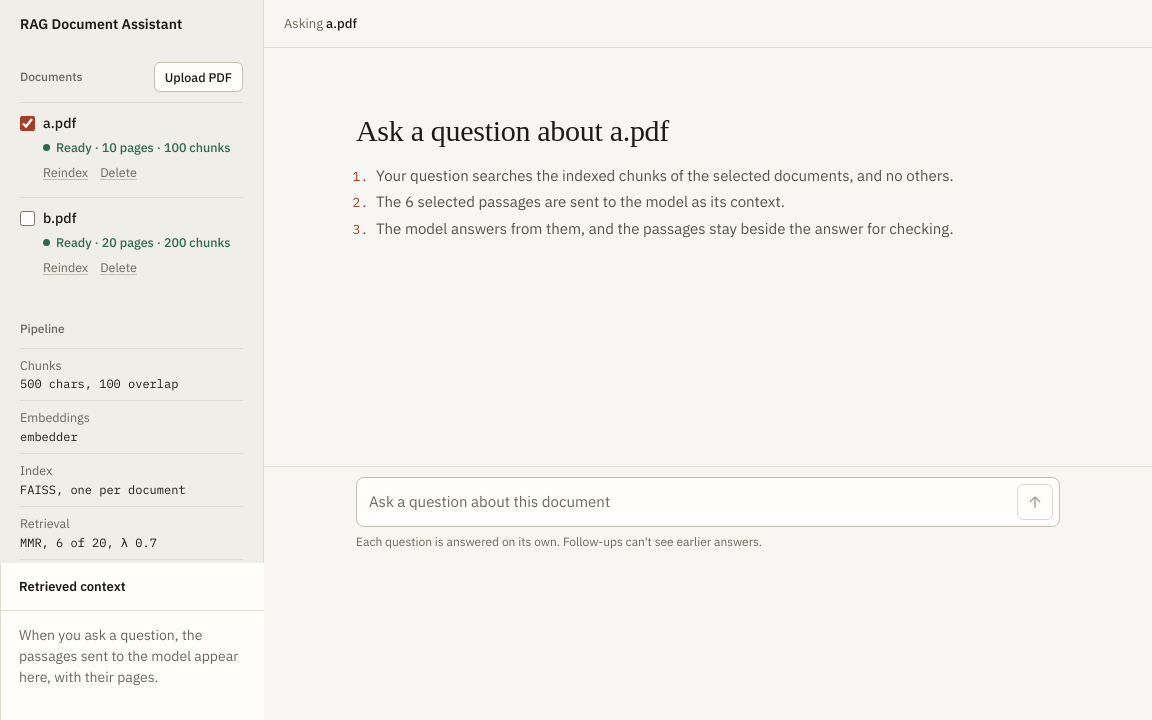
Test: source rendering › shows no invented citations when no sources are returned
Click the checkbox labelled "b.pdf": [28, 218] box x1=20 y1=211 x2=35 y2=226
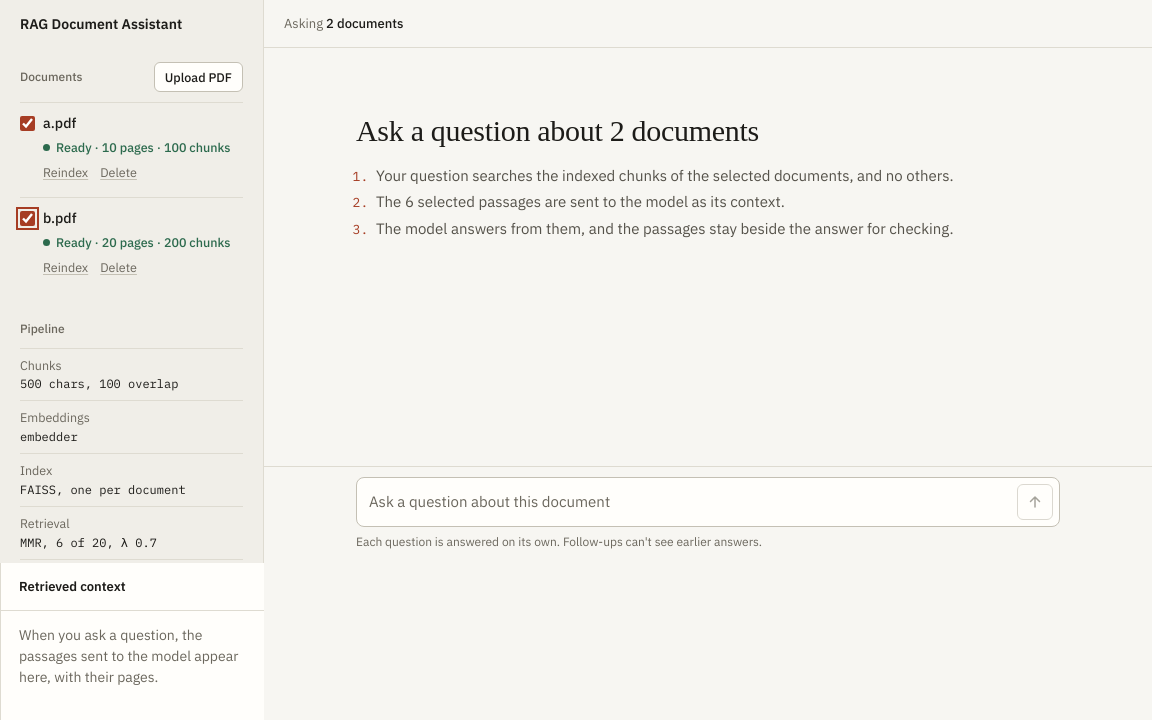
In the text box named "Question about the document": [689, 502] box x1=369 y1=484 x2=1009 y2=520, type "What?"
Then press Enter
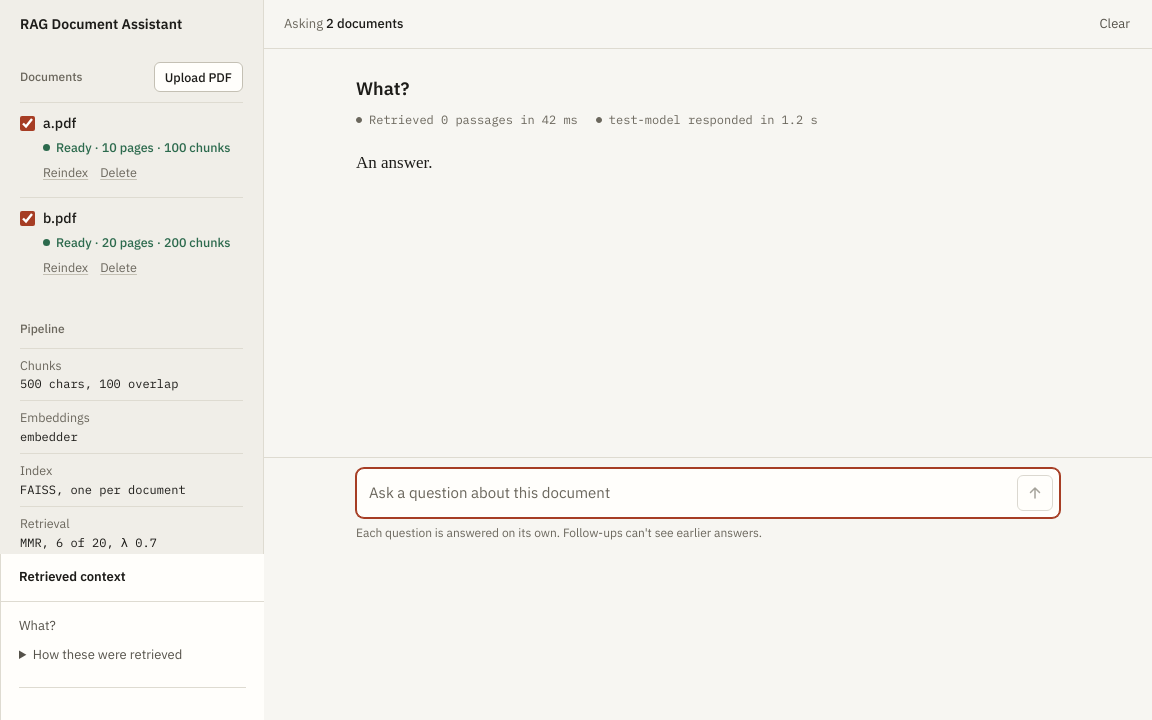
Check: the text "An answer." is shown, box x1=356 y1=153 x2=432 y2=172
